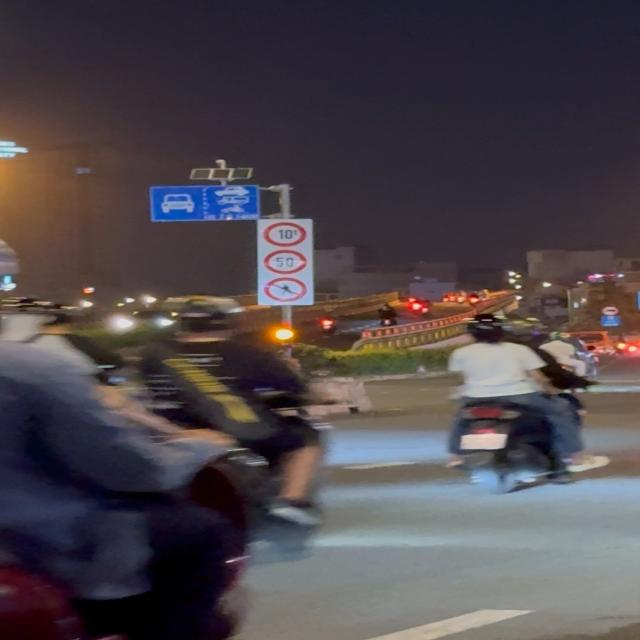Bien bao cam nguoi di bo: (264, 276, 308, 302)
Bien bao toc do toi da cho phep: (264, 249, 312, 275)
